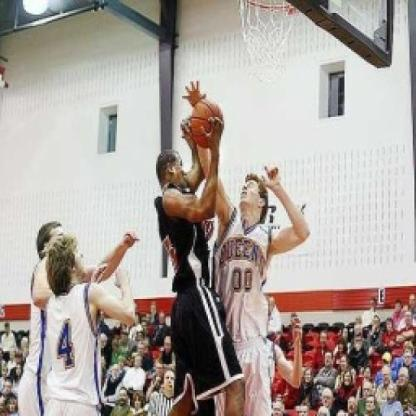basketball: (184, 97, 228, 151)
